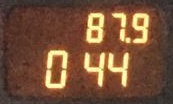-: (124, 36, 131, 43)
0: (43, 47, 68, 88)
4: (82, 50, 105, 88), (106, 50, 129, 88)
7: (110, 10, 126, 42)
8: (85, 11, 105, 43)
9: (131, 12, 149, 44)
